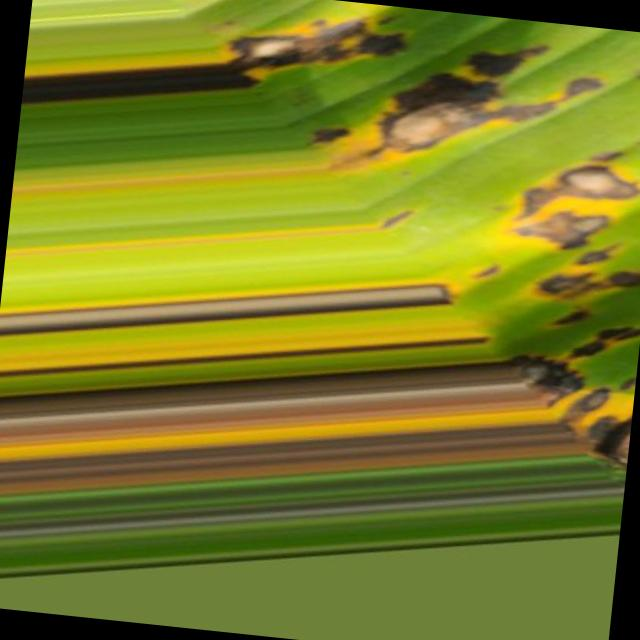Banana_Yellow_Sigatoka: (220, 0, 640, 221), (69, 286, 351, 484), (465, 208, 640, 475)
